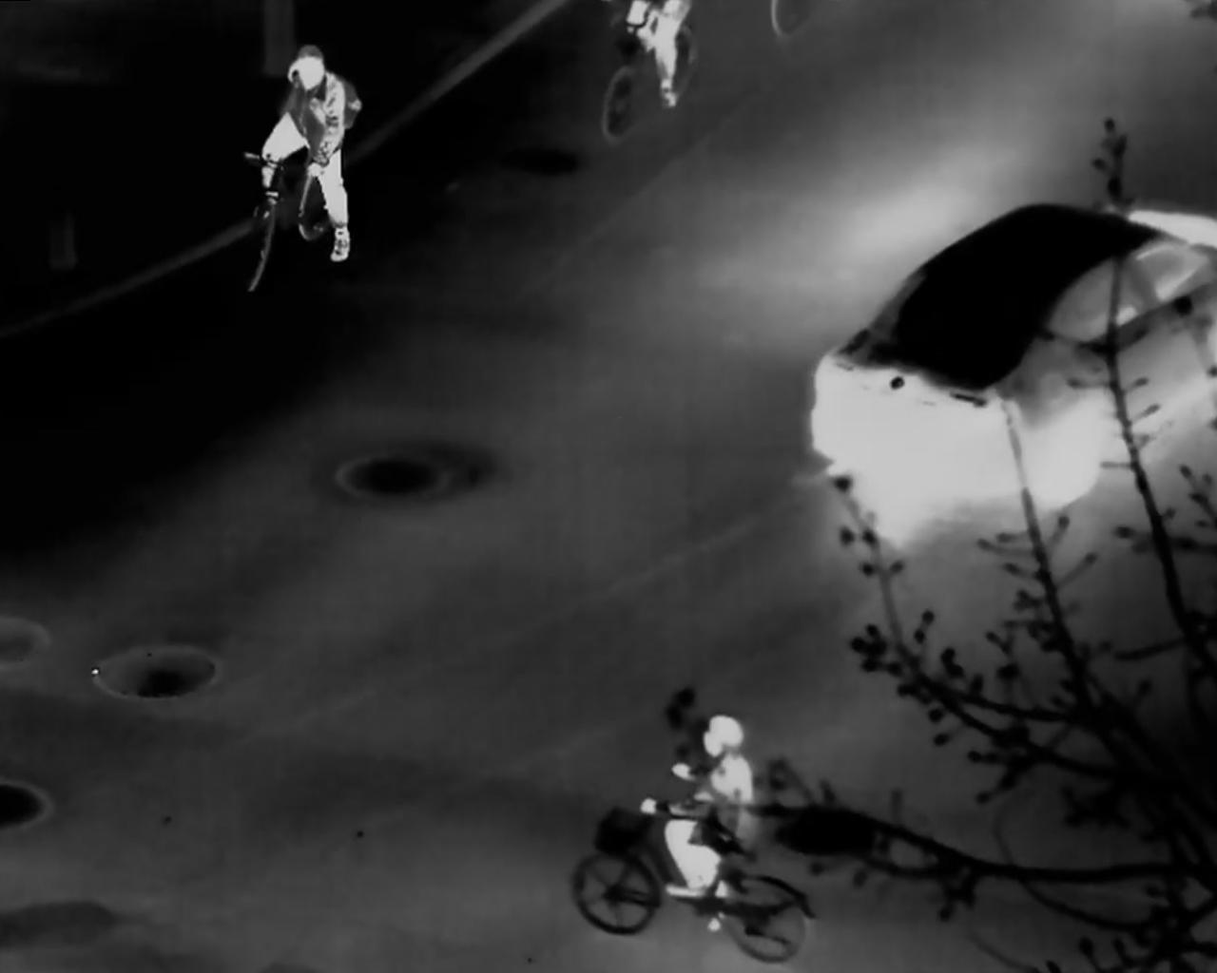person: (255, 44, 365, 264), (638, 714, 753, 900), (625, 2, 691, 109)
